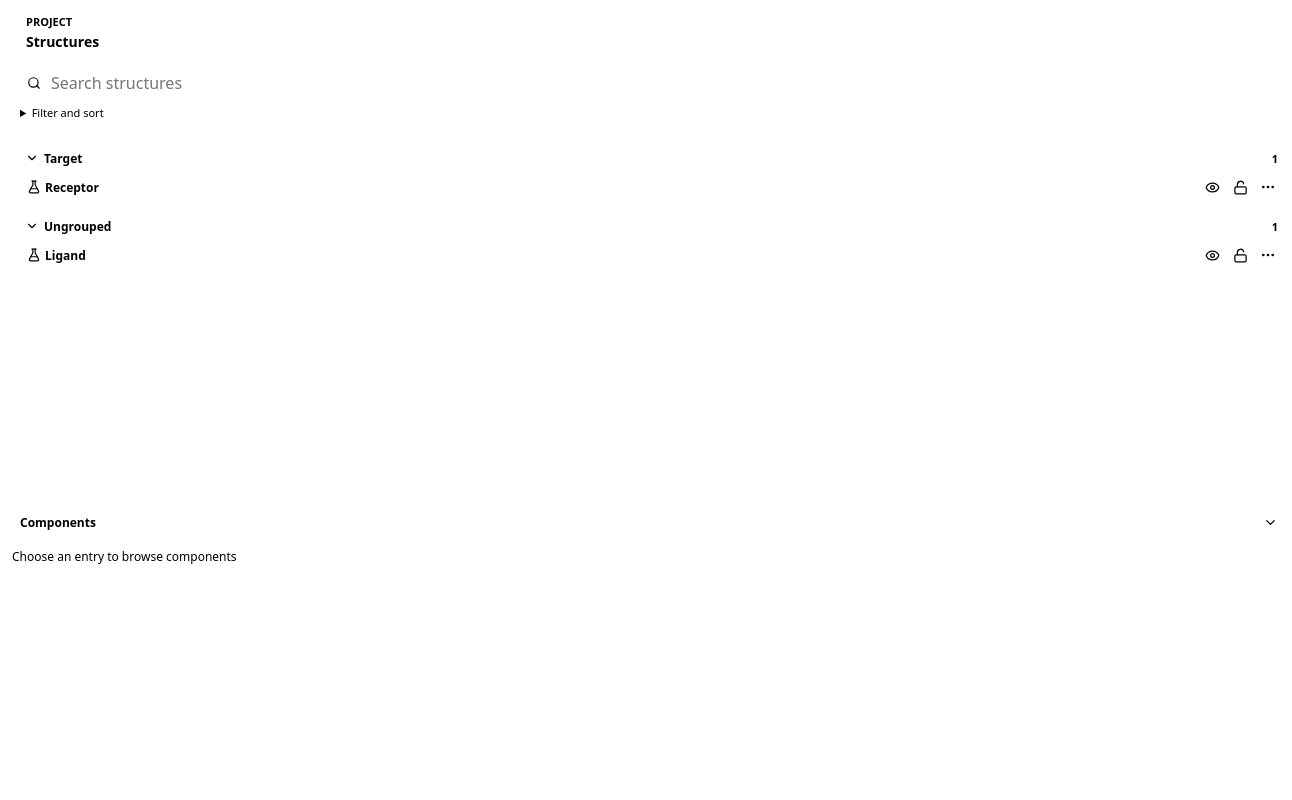
keeps late previous-entry data out of the current pane and retries a failed load
The image size is (1292, 800).
Click the button with class "entry-select" showing "Receptor" at (72, 187), box [22,173,1198,201]
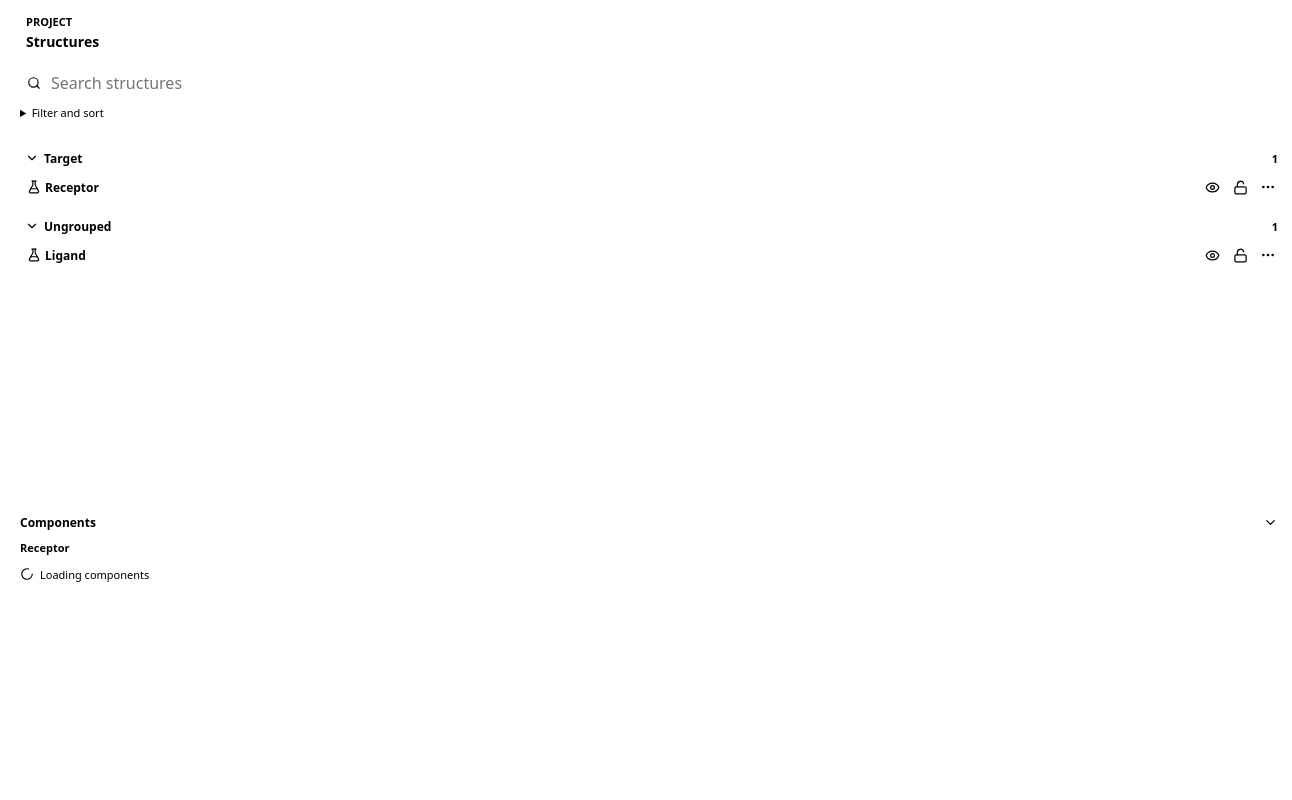
Now the text "Loading components" is shown, box [20,567,149,582]
Click the button with class "entry-select" showing "Ligand" at (65, 255), box [22,241,1198,269]
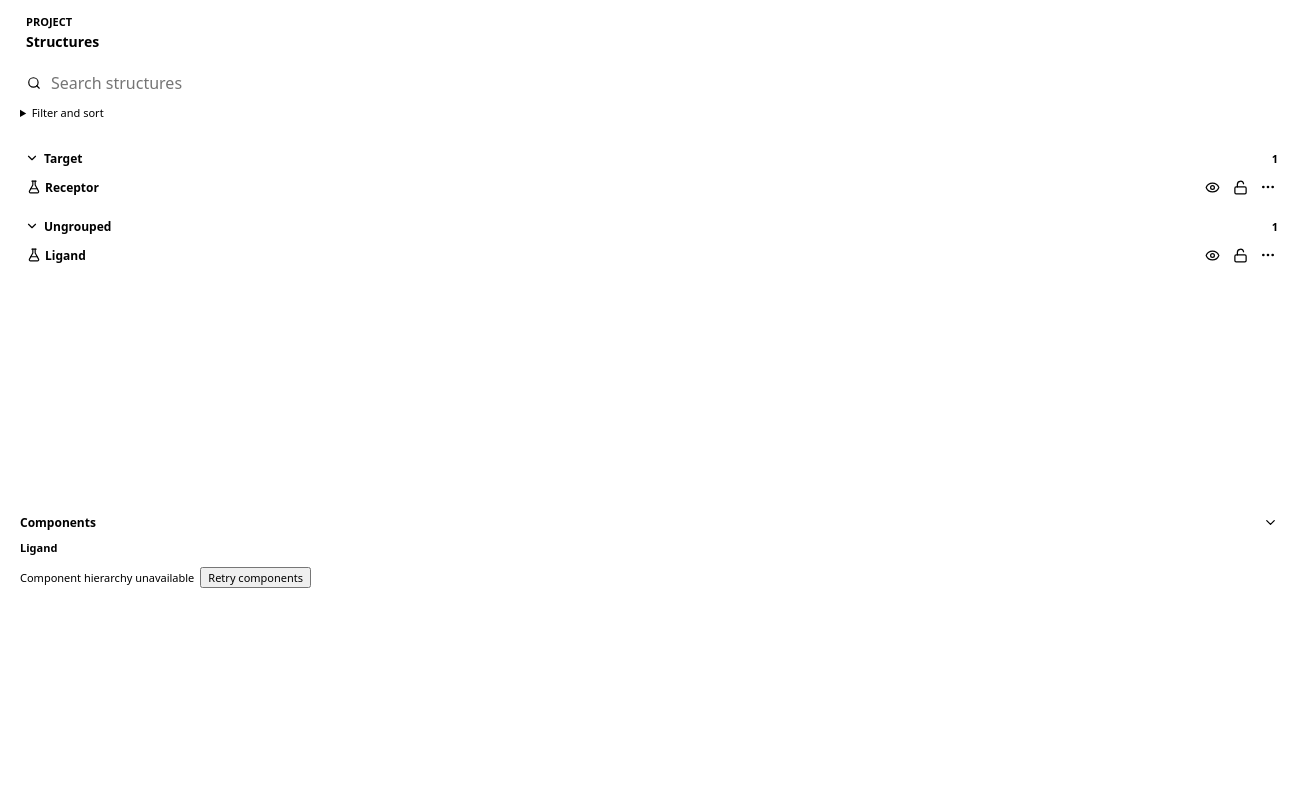
Now the text "Component hierarchy unavailable" is shown, box [20,570,194,585]
Click the button "Retry components" at (256, 577), box [200,567,311,588]
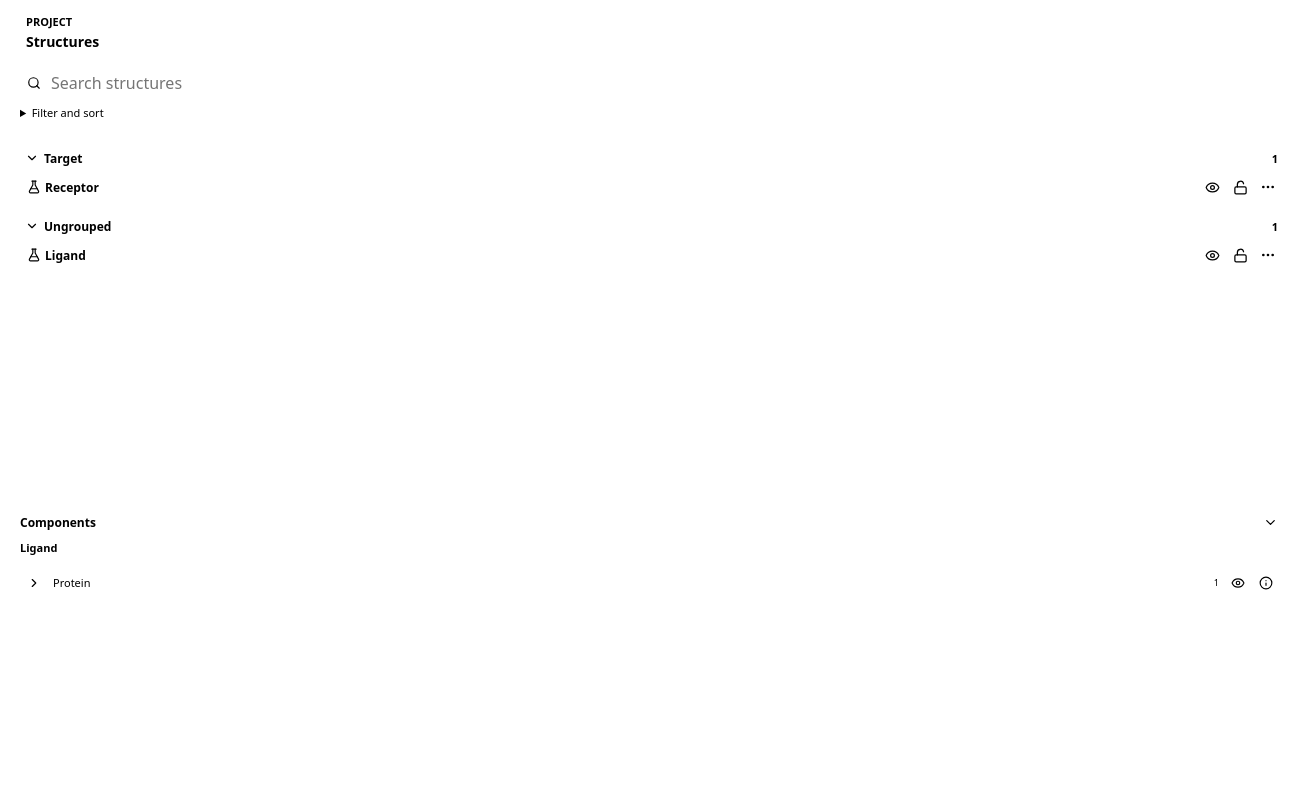
Now the button with aria-label "Select Protein in" is shown, box [48,569,1224,597]
